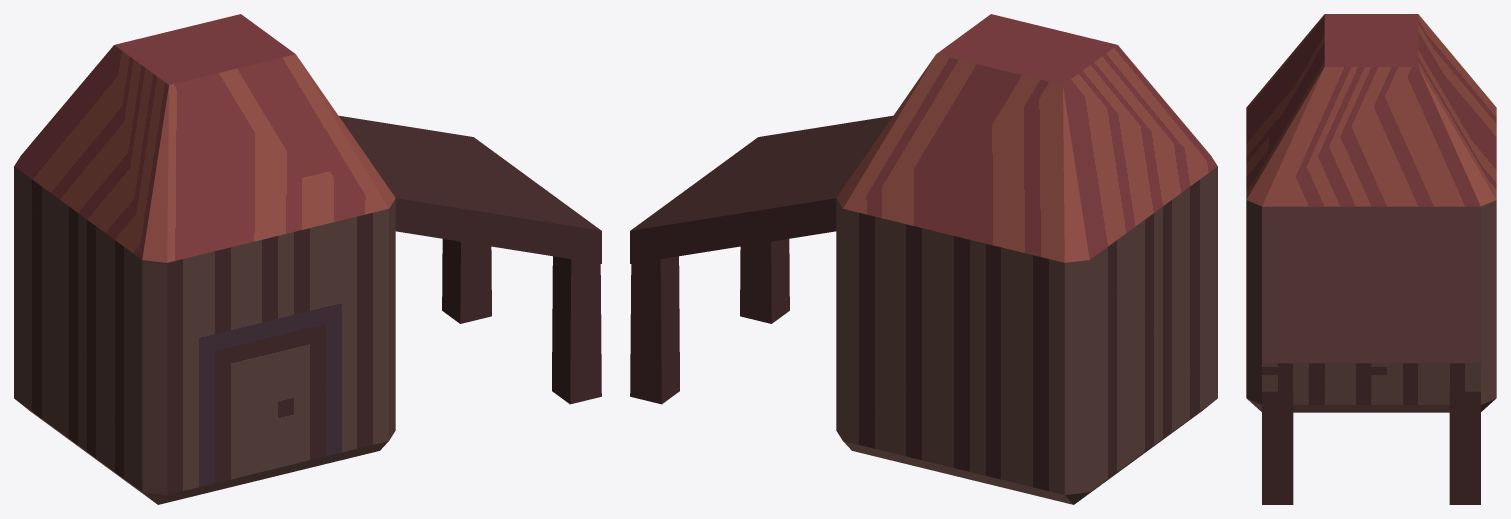
The model's file is Shack.obj.
3 renders of one model, left to right at view 1: azimuth 30°, elevation 25°; view 2: azimuth 150°, elevation 25°; view 3: azimuth 270°, elevation 25°, orthographic. The views are drawn at different scales.
Parts seen in each view (by area): view 1: beveled_cuboid, cuboid; view 2: beveled_cuboid, cuboid; view 3: beveled_cuboid, cuboid.
Boxes of the visible parts, <box> form: beveled_cuboid: <box>14,14,601,504</box>; cuboid: <box>442,239,601,404</box>; beveled_cuboid: <box>630,14,1217,504</box>; cuboid: <box>630,239,789,404</box>; beveled_cuboid: <box>1246,14,1496,412</box>; cuboid: <box>1262,391,1480,504</box>.
Bounding box in the file's own units: 1.81 × 1.44 × 1.
2 materials, 2 textured.
